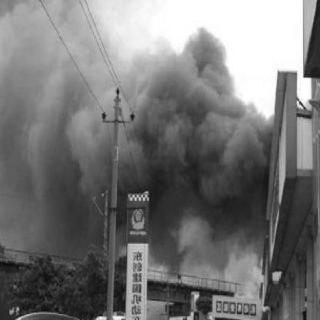Smoke: (4, 12, 274, 234)
